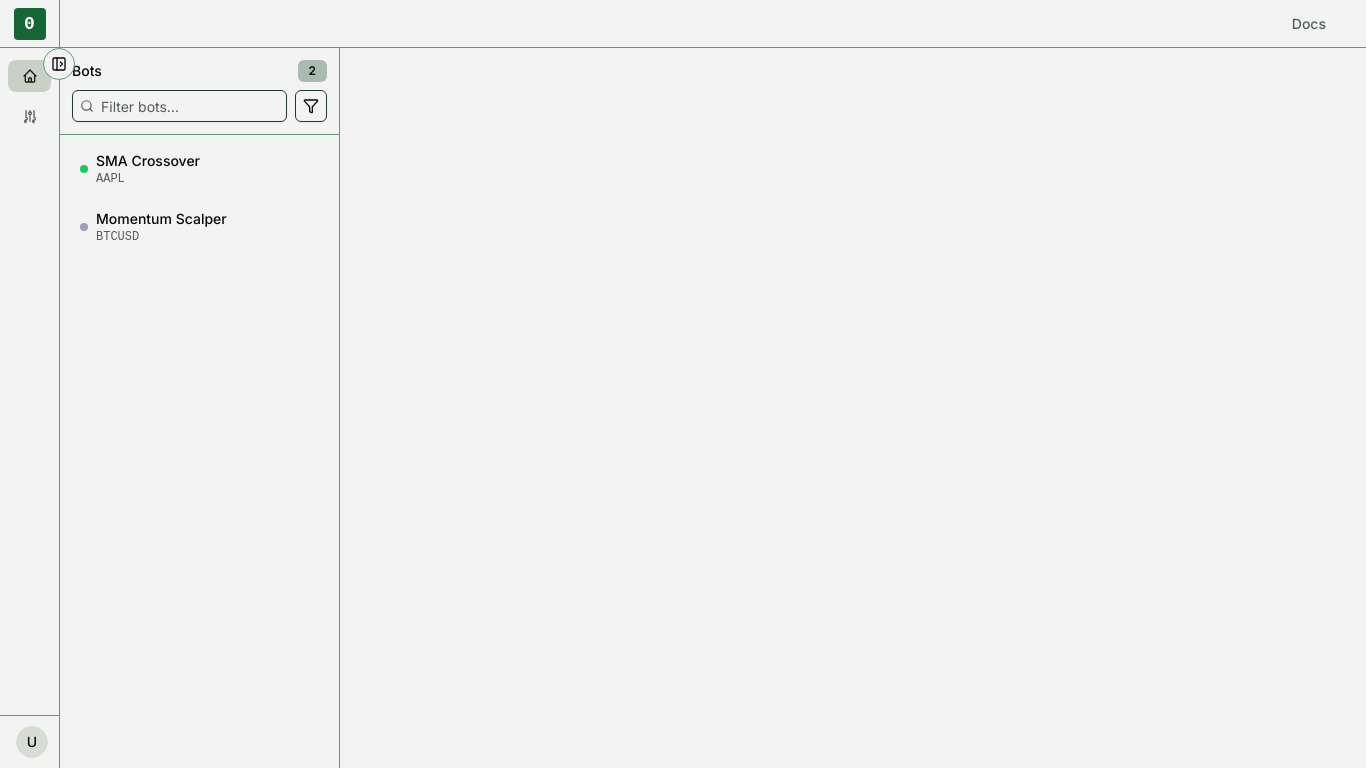
Test: dashboard layout › desktop sidebar › filters by search and shows filtered over total
The width and height of the screenshot is (1366, 768).
Type "btc" into the field labelled "Filter bots". click: (180, 106)
box: [72, 90, 287, 122]
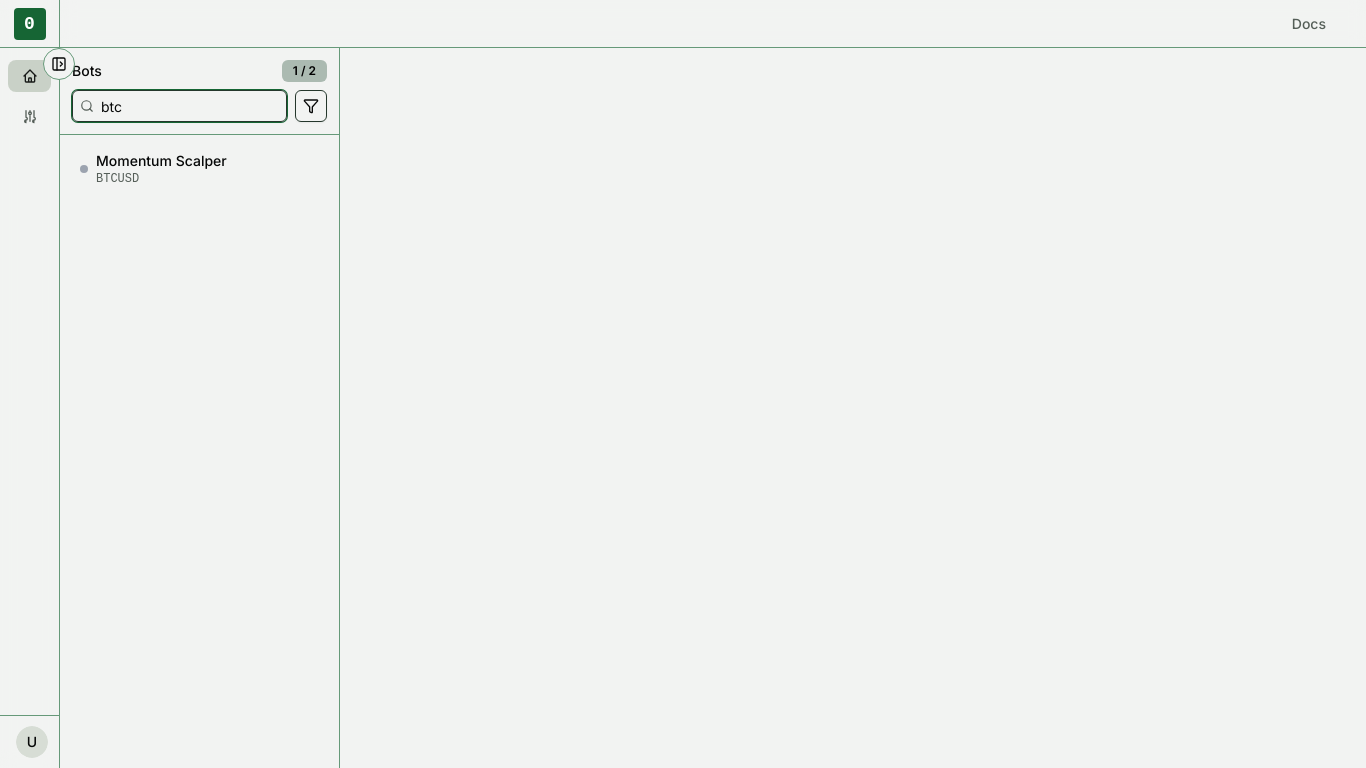
Expected: the text "1 / 2" is shown, [282, 60, 327, 82]
Expected: the button "SMA Crossover" is gone
Type "zzz" into the field named "Filter bots". click: (180, 106)
box: [72, 90, 287, 122]
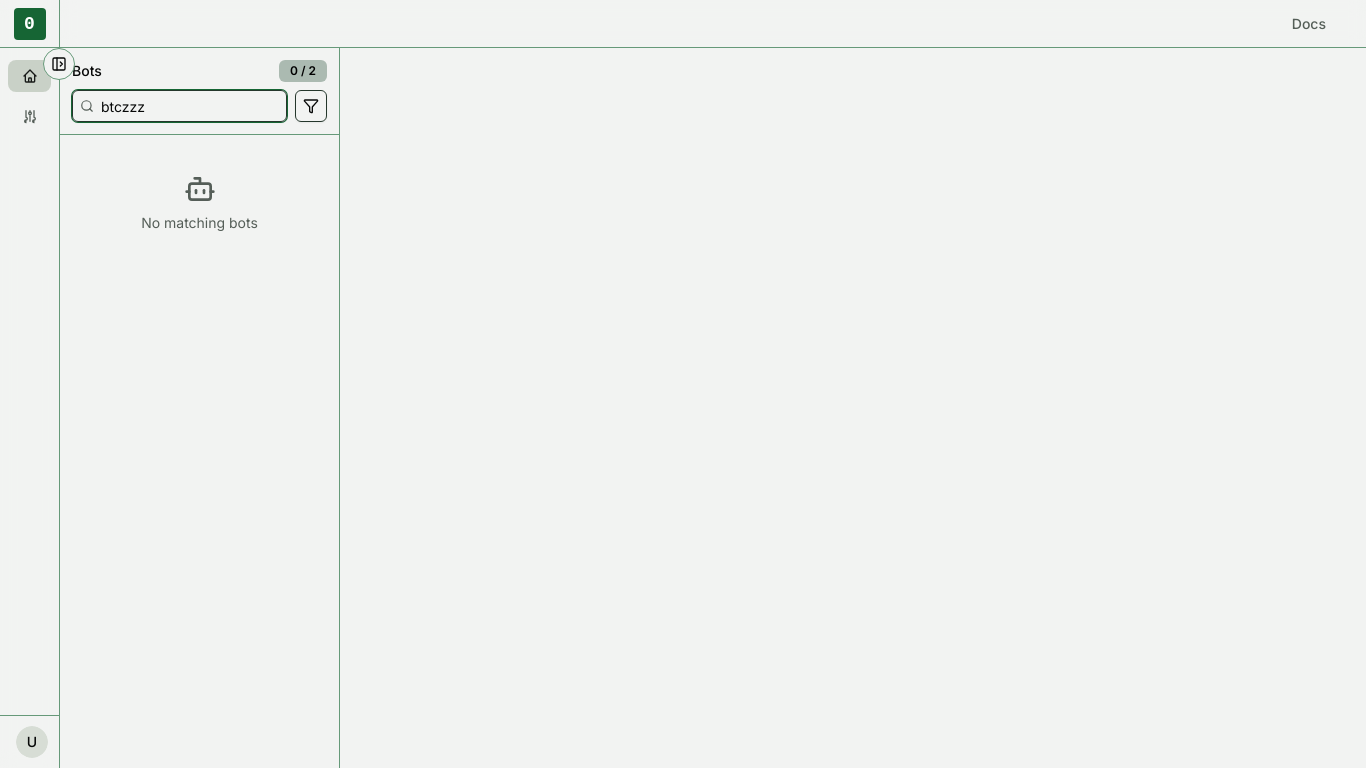
Expected: the text "No matching bots" is shown, [141, 213, 258, 233]
